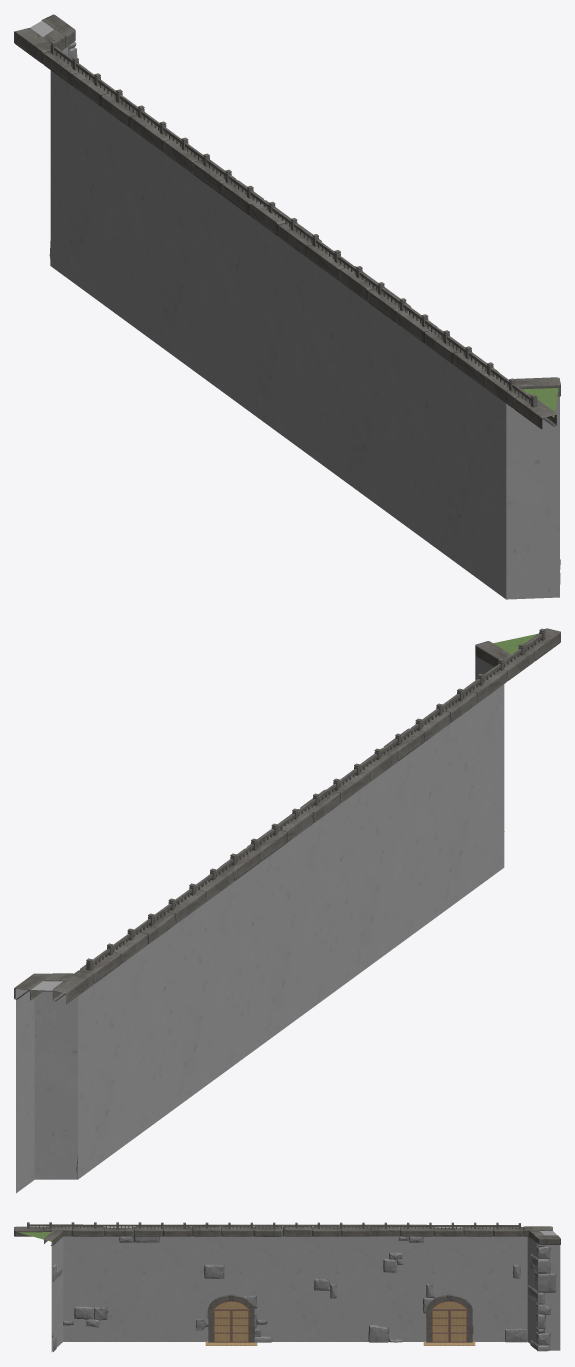
The model's file is SM_ENV_KNVLLG_AreaG_Wall_A.fbx.
3 renders of one model, top to bottom at view 1: azimuth 30°, elevation 25°; view 2: azimuth 150°, elevation 25°; view 3: azimuth 270°, elevation 25°, orthographic. The views are drawn at different scales.
Parts seen in each view (by area): view 1: SM_ENV_KNVLLG_AreaG_Wall_A.mo; view 2: SM_ENV_KNVLLG_AreaG_Wall_A.mo; view 3: SM_ENV_KNVLLG_AreaG_Wall_A.mo.
Boxes of the visible parts, x1,y1,x2,y2 form: SM_ENV_KNVLLG_AreaG_Wall_A.mo: (14,14,560,599); SM_ENV_KNVLLG_AreaG_Wall_A.mo: (14,628,560,1193); SM_ENV_KNVLLG_AreaG_Wall_A.mo: (14,1222,560,1351).
Size of the model in its own units: 565 by 2191 by 9245.
